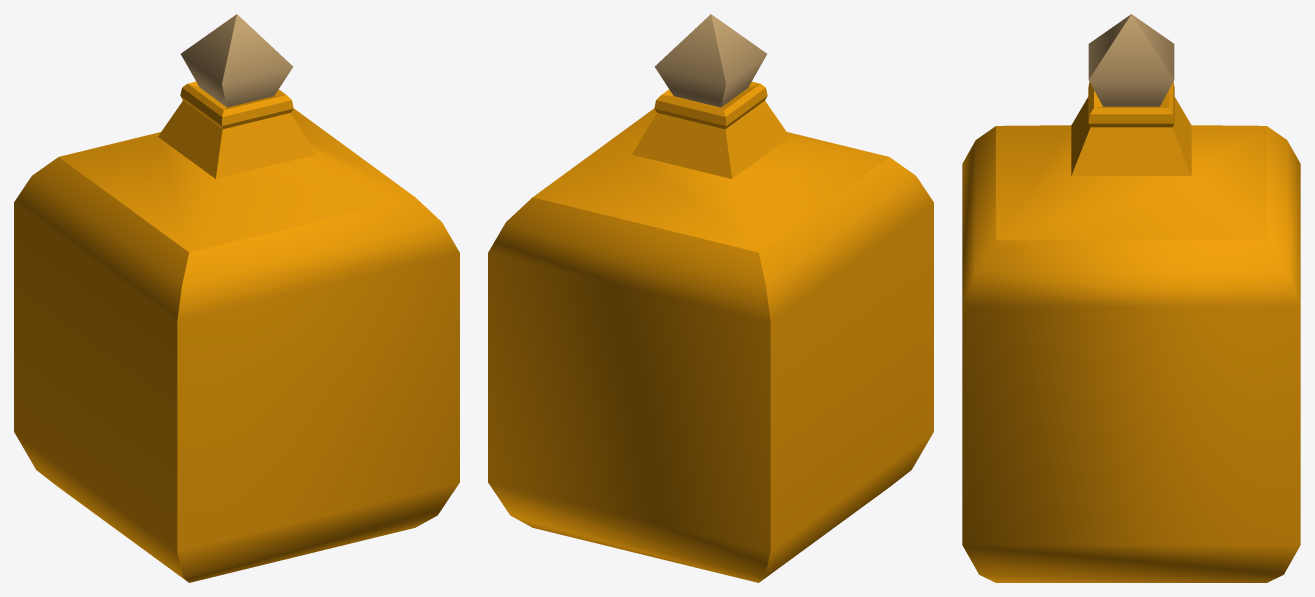
File: TurboSwiftPotion.fbx
3 views of the same model, side by side, from view 1: azimuth 30°, elevation 25°; view 2: azimuth 150°, elevation 25°; view 3: azimuth 270°, elevation 25° (orthographic). The views are drawn at different scales.
Visible parts, largest first — view 1: TurboSwiftPotion; view 2: TurboSwiftPotion; view 3: TurboSwiftPotion.
Part boxes in pixels (x1,y1,x2,y2): TurboSwiftPotion: [14, 14, 459, 582]; TurboSwiftPotion: [488, 14, 933, 582]; TurboSwiftPotion: [962, 14, 1300, 582].
Bounding box in the file's own units: 62.37 × 104 × 62.37.
